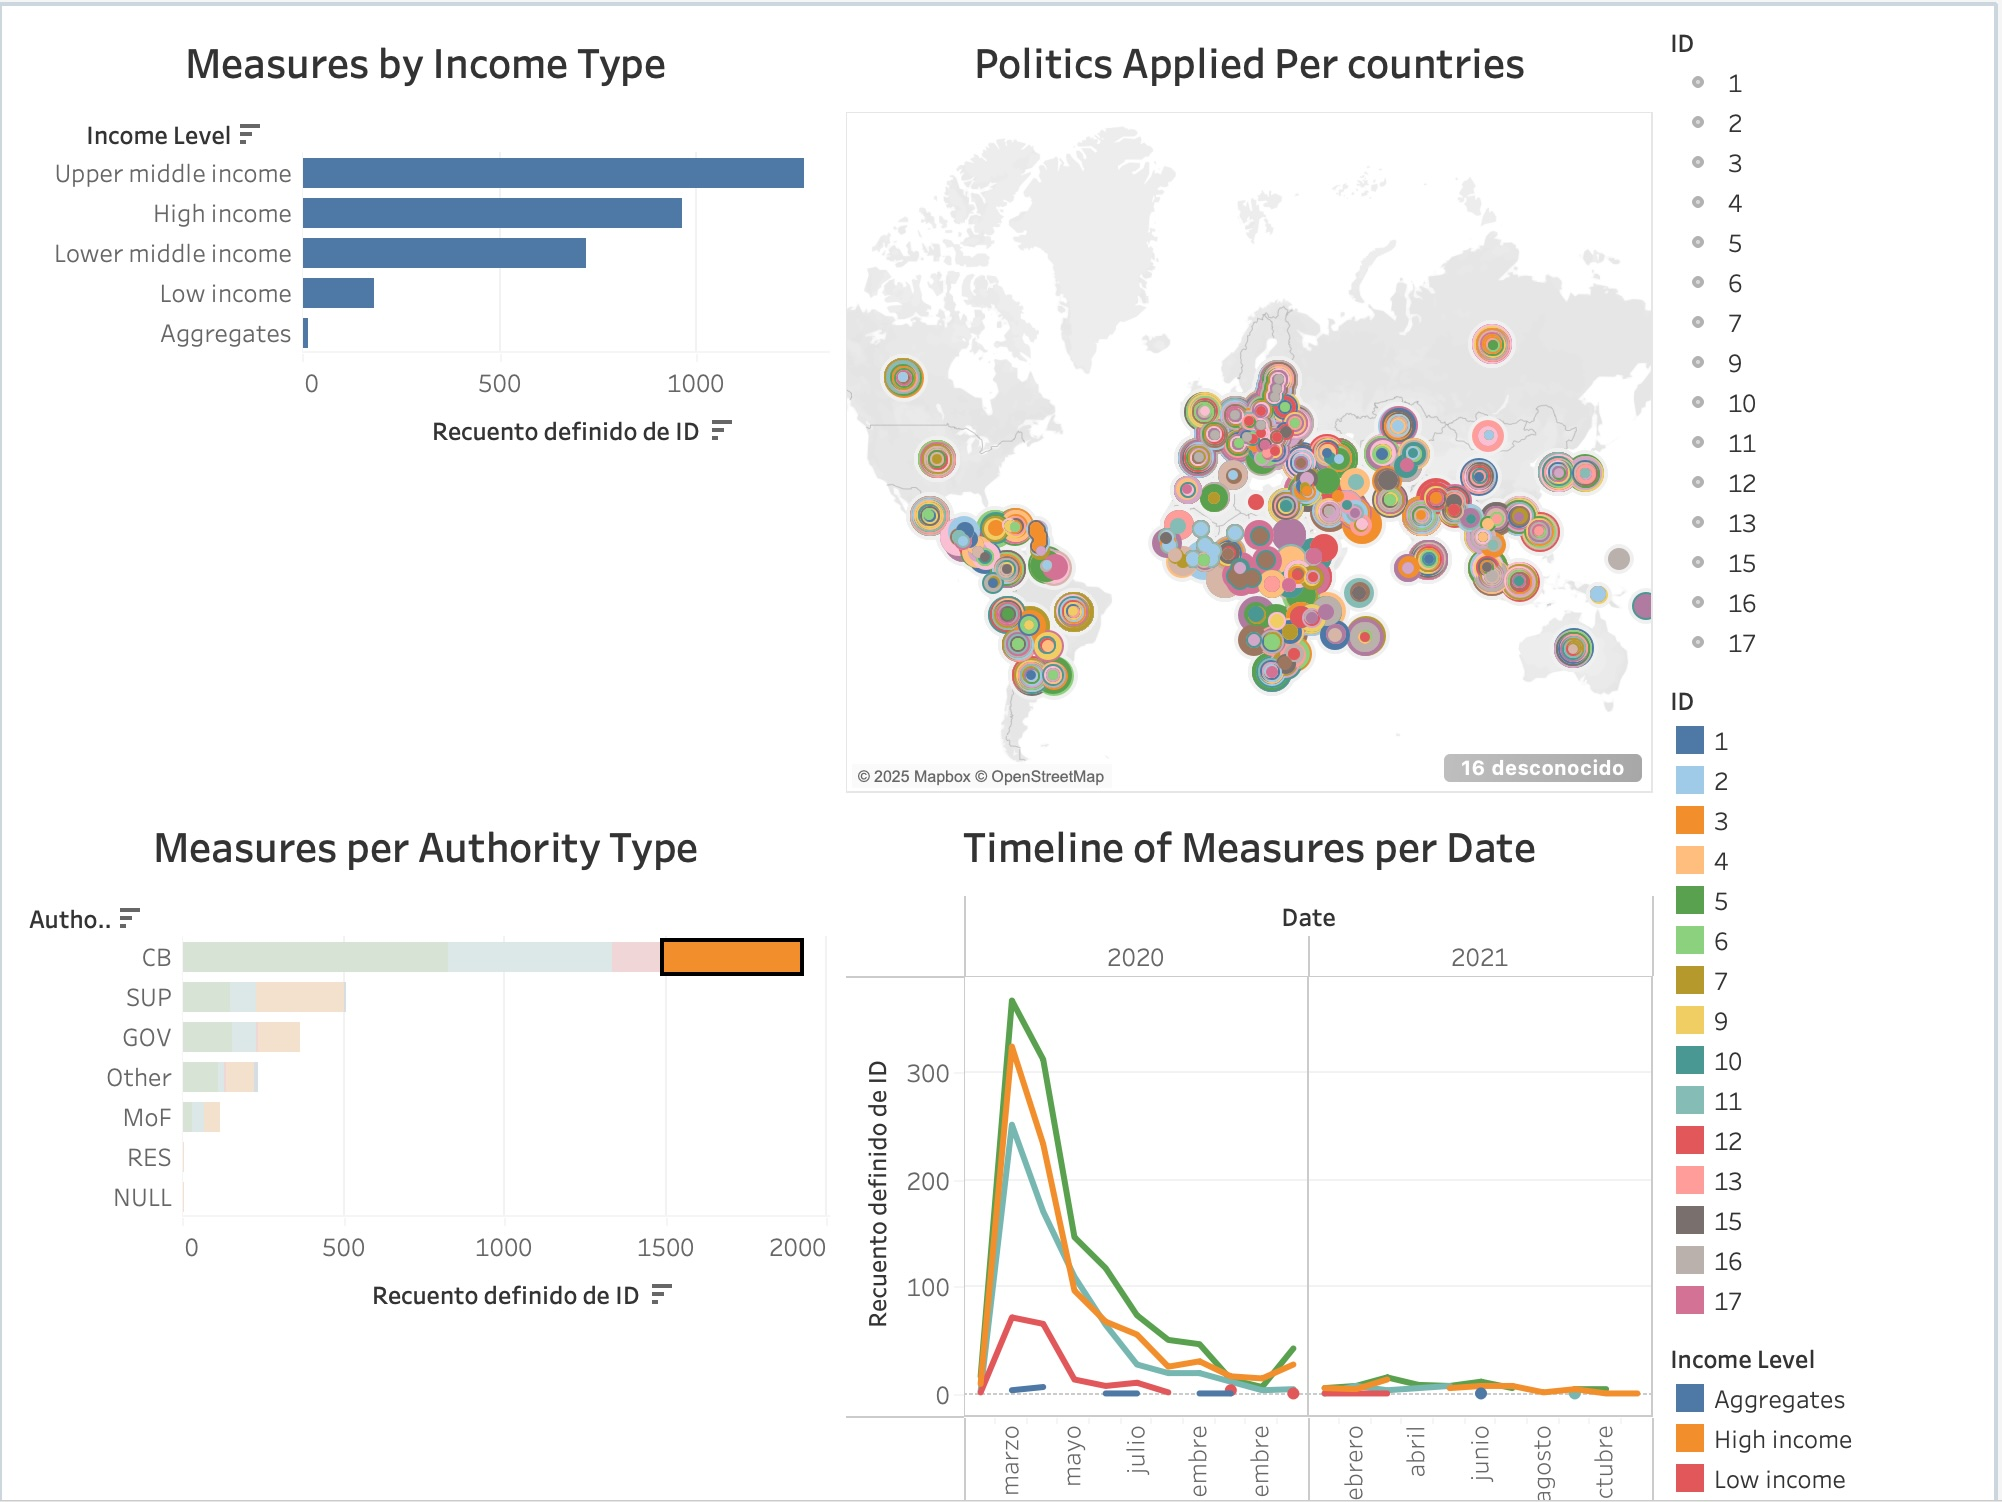

This screenshot's page, from the dashboard's own definition file:
{"tool":"tableau","page":{"name":"Dashboard 1","canvas":[1000,800],"ordinal":0},"visuals":[{"type":"worksheet","title":"Income Type Measures","mark":"Automatic","rows":["Income Level"],"cols":["ID"],"box":[8,8,412,392]},{"type":"worksheet","title":"Politics Applied","mark":"Automatic","box":[420,8,412,392]},{"type":"legend","title":"Politics Applied","param":"[federated.0yjm2hc1cjj3an1735vdg1phun3g].[none:ID:ok]","box":[832,8,160,329]},{"type":"legend","title":"Politics Applied","param":"[federated.0yjm2hc1cjj3an1735vdg1phun3g].[none:ID:ok]","box":[832,337,160,329]},{"type":"worksheet","title":"Authority Type Measures","mark":"Automatic","rows":["Authority"],"cols":["ID"],"box":[8,400,412,392]},{"type":"worksheet","title":"Timeline Measures","mark":"Automatic","rows":["ID"],"cols":["Date","Date"],"box":[420,400,412,392]},{"type":"legend","title":"Authority Type Measures","param":"[federated.0yjm2hc1cjj3an1735vdg1phun3g].[none:Income Level:nk]","box":[832,666,160,126]}]}

Visuals, with their boxes on the page's 1000x800 design canvas (x1, y1, x2, y2). These are canvas units, not pixel positions in the 2002x1502 screenshot, which may show the page scaled, cropped or inside an application window:
"Income Type Measures" worksheet: (left=8, top=8, right=420, bottom=400)
"Politics Applied" worksheet: (left=420, top=8, right=832, bottom=400)
"Politics Applied" legend: (left=832, top=8, right=992, bottom=337)
"Politics Applied" legend: (left=832, top=337, right=992, bottom=666)
"Authority Type Measures" worksheet: (left=8, top=400, right=420, bottom=792)
"Timeline Measures" worksheet: (left=420, top=400, right=832, bottom=792)
"Authority Type Measures" legend: (left=832, top=666, right=992, bottom=792)
